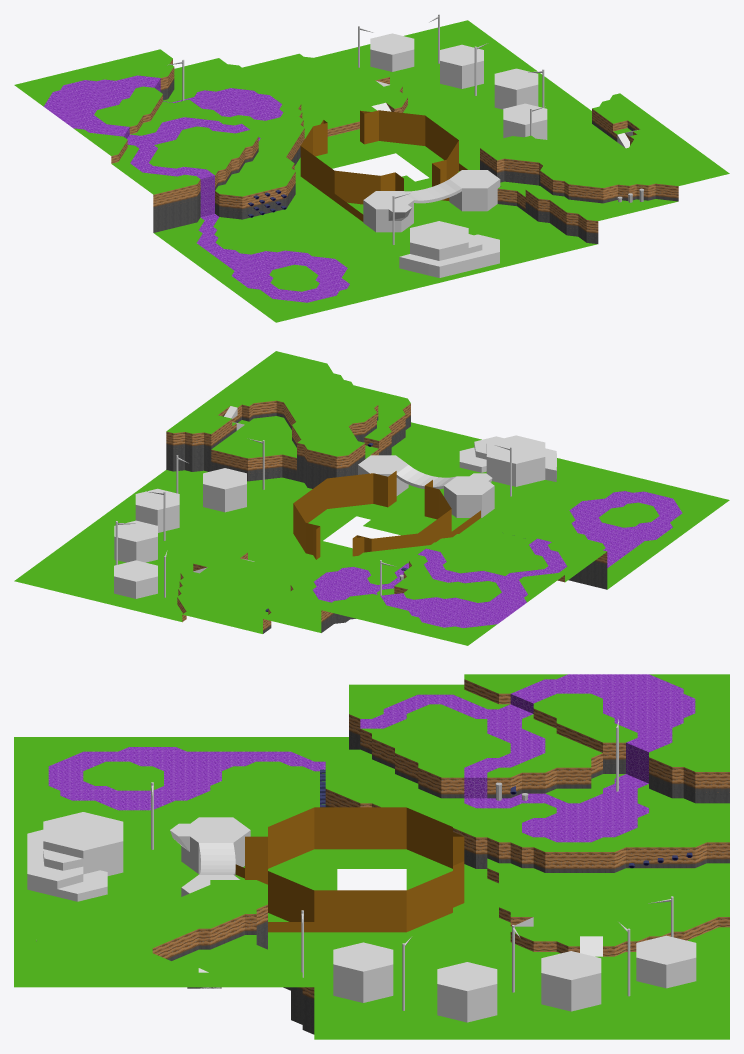
Rendered from Ring1SecondPass.fbx.
The picture shows the model from 3 angles, top to bottom: view 1: azimuth 30°, elevation 25°; view 2: azimuth 150°, elevation 25°; view 3: azimuth 270°, elevation 25°; orthographic projection. The views are drawn at different scales.
Visible parts, largest first — view 1: Cube.013, Cylinder.025, Cylinder.044, Cylinder.043, Cylinder.045, Cylinder.042; view 2: Cylinder.025, Cube.013, Cylinder.042, Cylinder.044, Cylinder.043, Cylinder.045; view 3: Cylinder.025, Cube.013, Cylinder.043, Cylinder.042, Cylinder.044, Cylinder.045.
Boxes of the visible parts, x1=… form: Cube.013: x1=363, y1=170, x2=500, y2=232; Cylinder.025: x1=399, y1=221, x2=499, y2=277; Cylinder.044: x1=440, y1=44, x2=483, y2=88; Cylinder.043: x1=494, y1=68, x2=538, y2=109; Cylinder.045: x1=370, y1=33, x2=414, y2=71; Cylinder.042: x1=503, y1=103, x2=547, y2=139; Cylinder.025: x1=459, y1=435, x2=556, y2=486; Cube.013: x1=358, y1=455, x2=494, y2=517; Cylinder.042: x1=203, y1=468, x2=246, y2=512; Cylinder.044: x1=114, y1=520, x2=157, y2=562; Cylinder.043: x1=135, y1=488, x2=179, y2=532; Cylinder.045: x1=114, y1=560, x2=157, y2=598; Cylinder.025: x1=27, y1=812, x2=123, y2=901; Cube.013: x1=170, y1=817, x2=250, y2=896; Cylinder.043: x1=437, y1=962, x2=497, y2=1022; Cylinder.042: x1=333, y1=942, x2=393, y2=1002; Cylinder.044: x1=541, y1=951, x2=601, y2=1011; Cylinder.045: x1=636, y1=935, x2=696, y2=988.
Bounding box in the file's own units: 24800 × 3644 × 24800.
